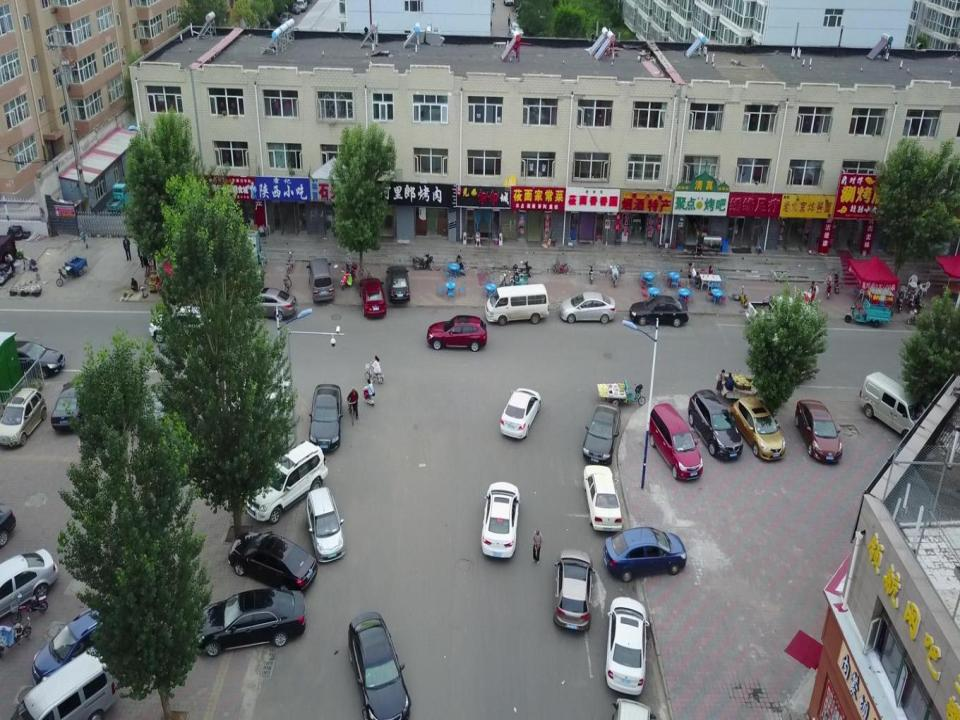car: (193, 588, 307, 658), (348, 609, 412, 720), (244, 441, 328, 525), (32, 603, 111, 687), (227, 530, 318, 593), (603, 526, 687, 582), (605, 596, 649, 696), (0, 548, 59, 618), (688, 389, 744, 460), (729, 396, 786, 460), (554, 548, 595, 632), (305, 487, 346, 564), (795, 398, 843, 463), (481, 481, 520, 558), (0, 387, 47, 447), (582, 465, 622, 532), (51, 374, 96, 431), (149, 305, 212, 343), (582, 401, 620, 464), (1, 341, 65, 378), (308, 383, 342, 452), (426, 315, 487, 352), (235, 287, 298, 321), (500, 388, 541, 439), (630, 296, 689, 328), (560, 291, 616, 324), (359, 278, 387, 317), (386, 265, 410, 302)
van: (8, 646, 118, 720), (858, 371, 930, 439), (648, 403, 702, 481), (485, 283, 549, 326), (306, 258, 334, 303), (612, 697, 656, 720)
